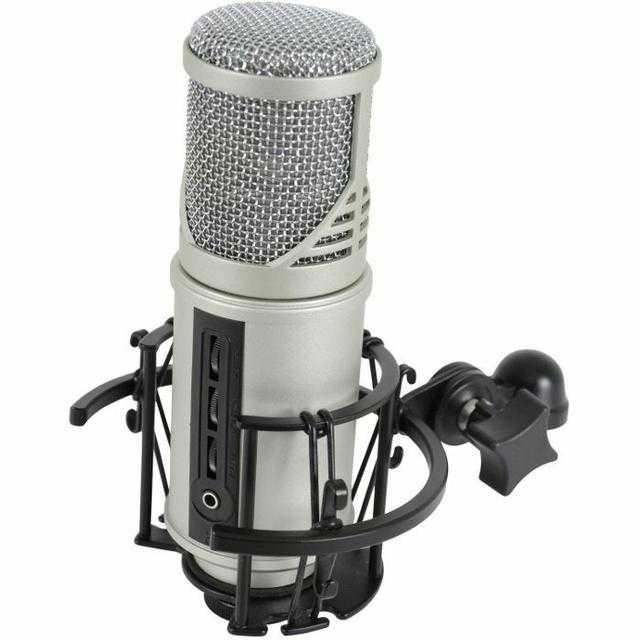microphone: (156, 0, 424, 499)
